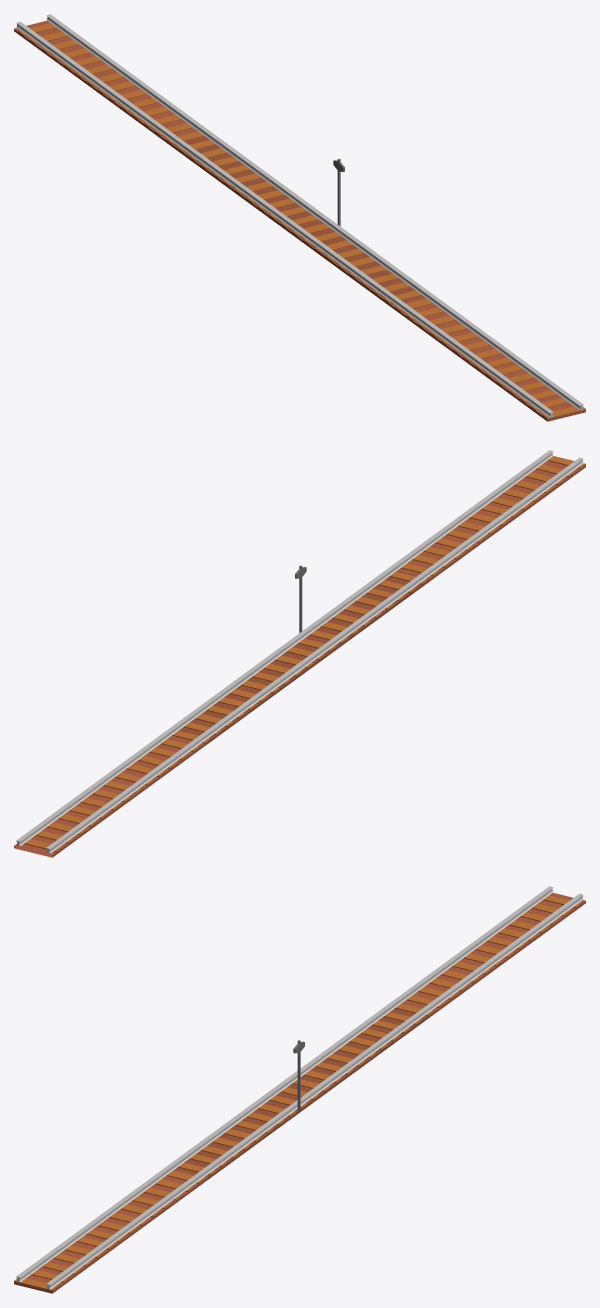
Rendered from Rails.fbx.
3 views of the same model, one above another, from view 1: azimuth 30°, elevation 25°; view 2: azimuth 150°, elevation 25°; view 3: azimuth 330°, elevation 25° (orthographic).
Visible parts, largest first — view 1: Cube.003, Cube, Cube.002, Cube.001; view 2: Cube.003, Cube, Cube.001, Cube.002; view 3: Cube.003, Cube, Cube.001, Cube.002.
Part boxes in pixels (box(x1,y1,x2,y2)): Cube.003: box(18, 23, 585, 419); Cube: box(14, 21, 585, 421); Cube.002: box(16, 21, 553, 417); Cube.001: box(46, 14, 583, 410); Cube.003: box(24, 456, 585, 851); Cube: box(14, 461, 585, 857); Cube.001: box(16, 450, 553, 846); Cube.002: box(46, 457, 583, 853); Cube.003: box(14, 895, 581, 1291); Cube: box(14, 893, 585, 1293); Cube.001: box(46, 893, 583, 1289); Cube.002: box(16, 886, 553, 1282).
Size of the model in its own units: 102 by 180 by 2400.
